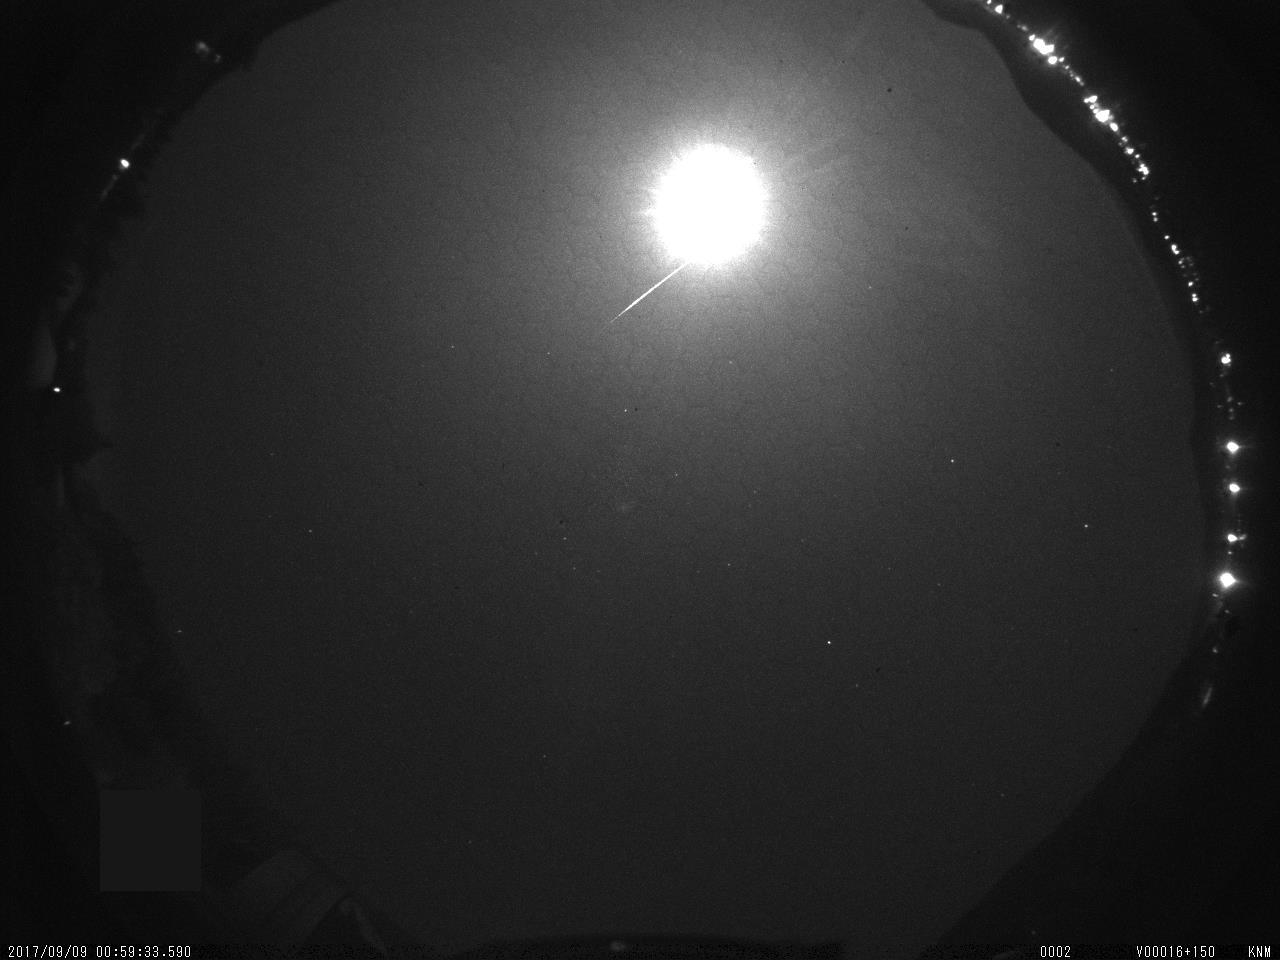meteor: (585, 239, 736, 340)
